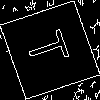T: (24, 25, 79, 69)
